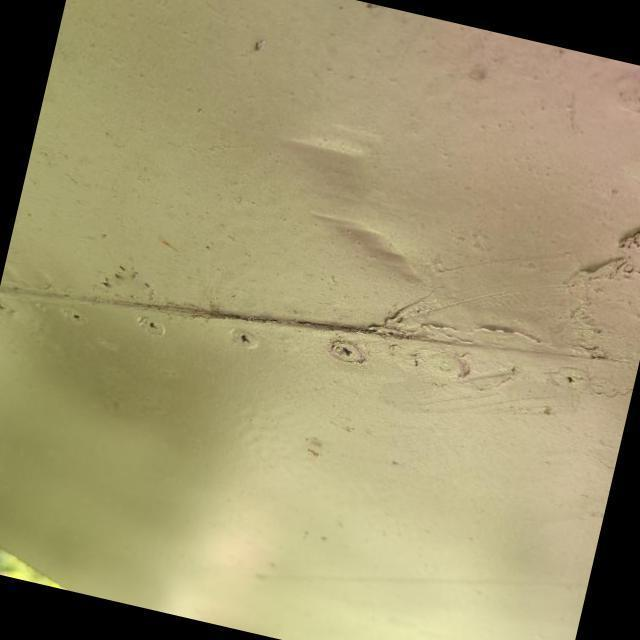dent: (302, 206, 436, 304)
